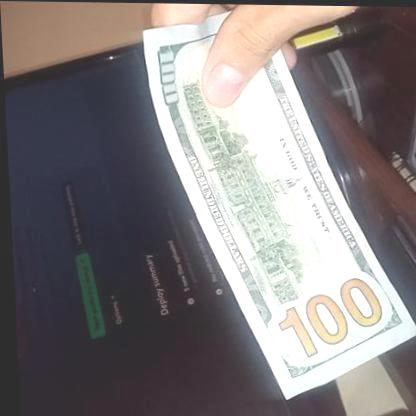dollar_back: (133, 8, 416, 402)
